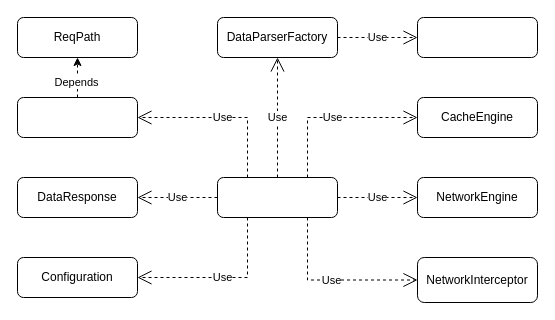
The diagram is 555 pixels wide and 320 high, and some of its shapes have lost their labels. The shapes that lost their labels are listed below. From the top down, each one's box as (x1, y1, x2, y2) in pixels, then its label:
(416, 16, 538, 58): DataParser
(16, 96, 138, 138): DataRequest
(216, 176, 338, 218): NetworkManager
